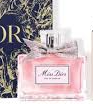dior_miss_dior: (15, 28, 88, 102)
